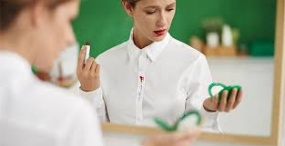lipstick: (139, 74, 146, 89)
